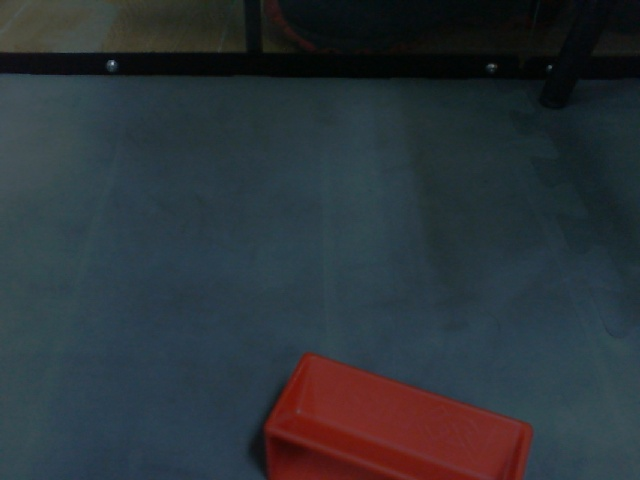RedSample: (259, 350, 536, 480)
